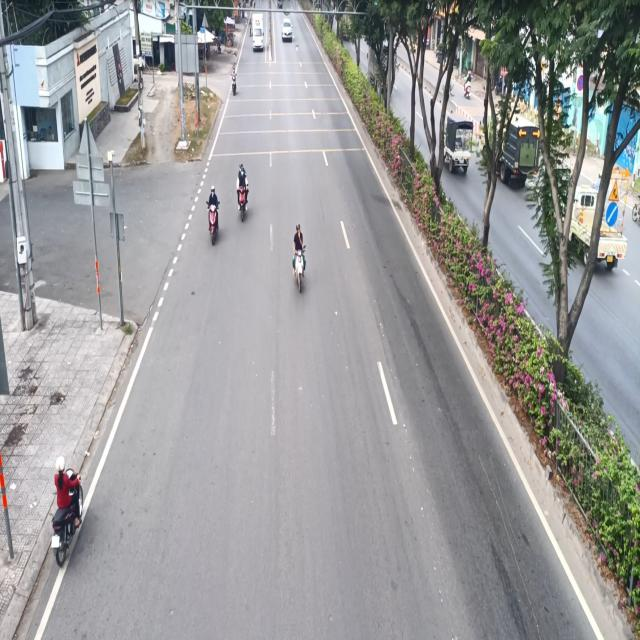car: (280, 15, 294, 46)
motor: (51, 449, 85, 566), (289, 214, 308, 298), (207, 182, 222, 246), (237, 159, 250, 231), (230, 63, 240, 97)
truck: (249, 14, 269, 52)
